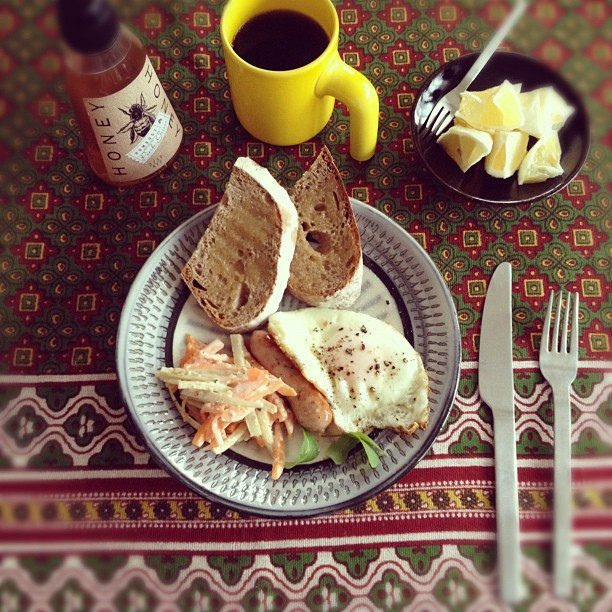fried egg: (266, 308, 434, 432)
slice of bread: (189, 160, 296, 323), (288, 153, 370, 305)
